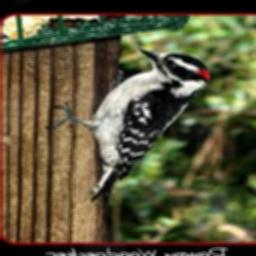Woodpecker: (41, 47, 212, 199)
